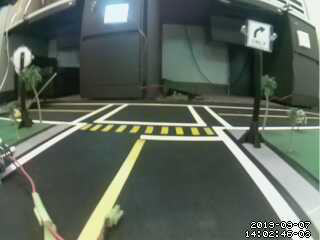Right_only_sign: (242, 17, 275, 55)
